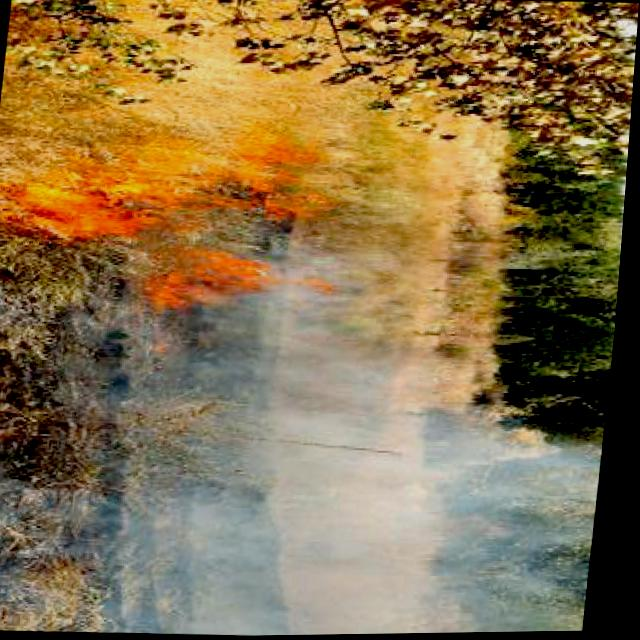helmet: (0, 124, 358, 261), (137, 244, 343, 320)
no_helmet: (106, 328, 619, 638)
